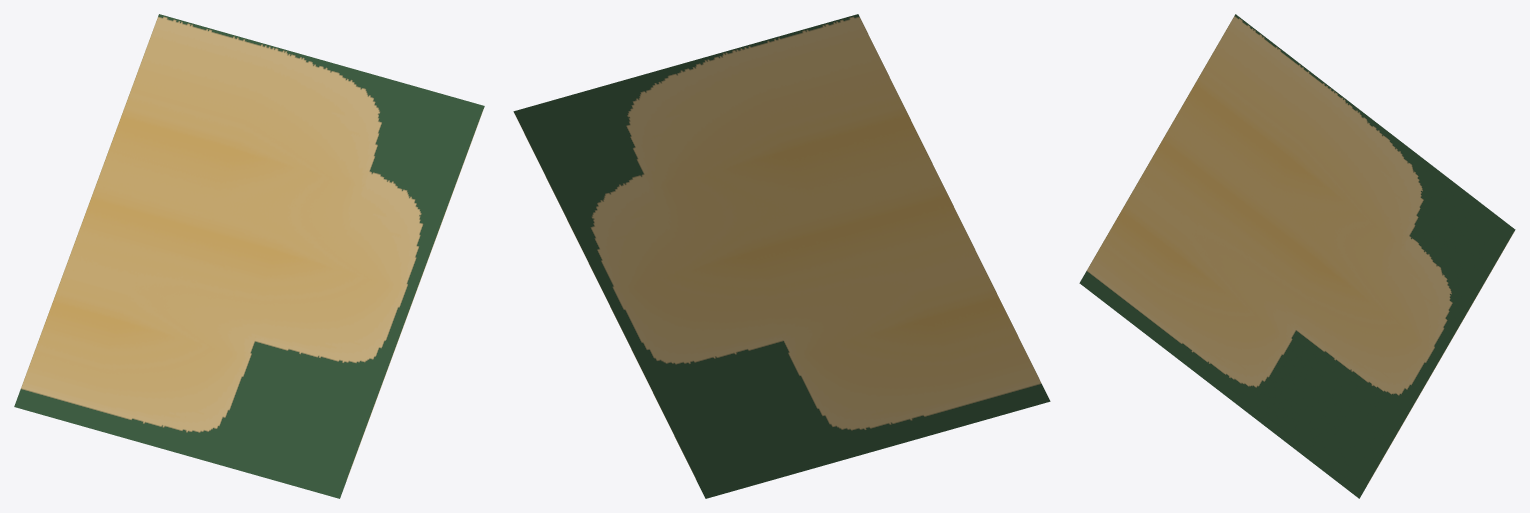
3 views of the same model, side by side, from view 1: azimuth 30°, elevation 25°; view 2: azimuth 150°, elevation 25°; view 3: azimuth 330°, elevation 25° (orthographic). The views are drawn at different scales.
Parts seen in each view (by area): view 1: dynamiclight.png__; view 2: dynamiclight.png__; view 3: dynamiclight.png__.
Part boxes in pixels (x1,y1,x2,y2): dynamiclight.png__: (14, 14, 484, 498); dynamiclight.png__: (513, 14, 1050, 498); dynamiclight.png__: (1079, 14, 1515, 498).
Size of the model in its own units: 19.87 by 19.84 by 1.29.
Materials: 1 (1 with a texture image).
